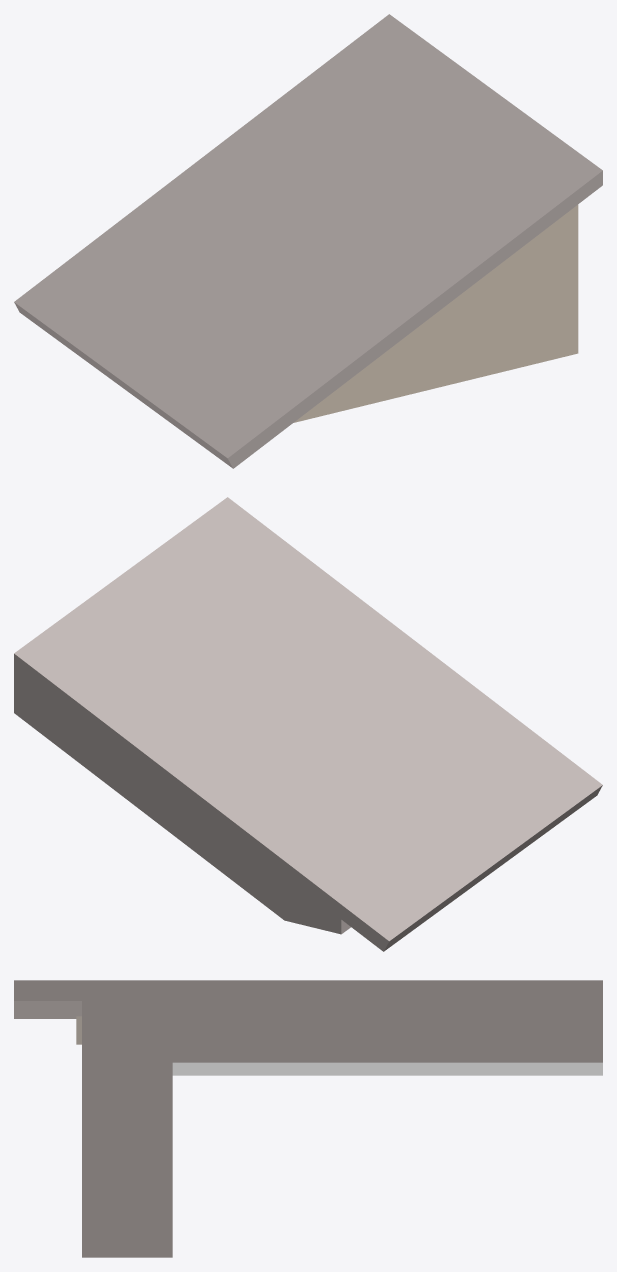
File: Structure_Roof_Edge_Eave.glb
3 views of the same model, one above another, from view 1: azimuth 30°, elevation 25°; view 2: azimuth 150°, elevation 25°; view 3: azimuth 270°, elevation 25° (orthographic). The views are drawn at different scales.
Parts seen in each view (by area): view 1: Structure_Roof_Edge_Eave; view 2: Structure_Roof_Edge_Eave; view 3: Structure_Roof_Edge_Eave.
Boxes of the visible parts, box(x1,y1,x2,y2) form: Structure_Roof_Edge_Eave: box(14, 14, 602, 468); Structure_Roof_Edge_Eave: box(14, 497, 602, 951); Structure_Roof_Edge_Eave: box(14, 980, 602, 1257).
Bounding box in the file's own units: 0.5932 × 0.3146 × 0.585.
